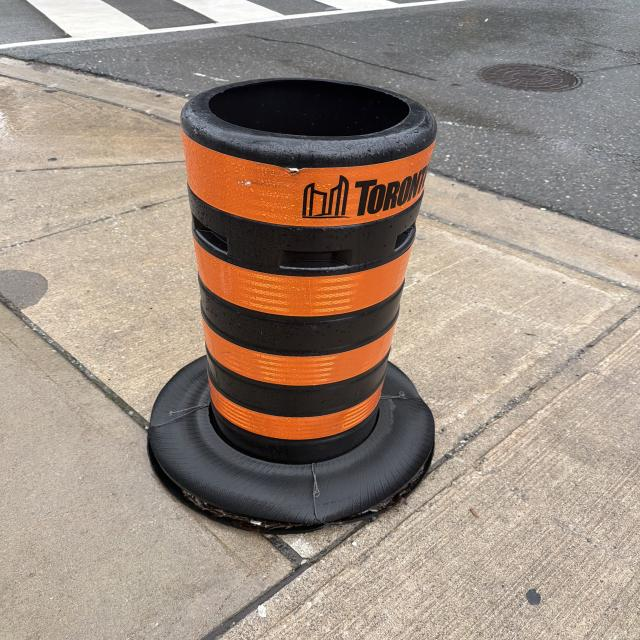Teraffic Barrel: (149, 79, 436, 532)
